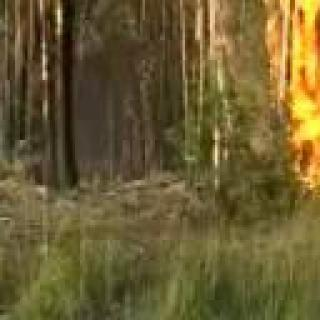fire: (265, 0, 320, 111), (285, 128, 320, 231)
